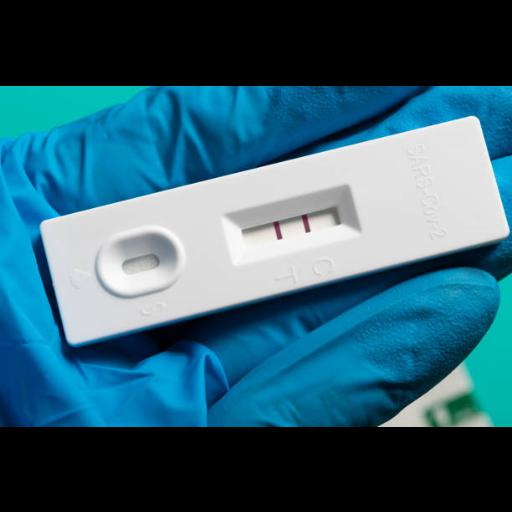Pos: (42, 115, 510, 343)
